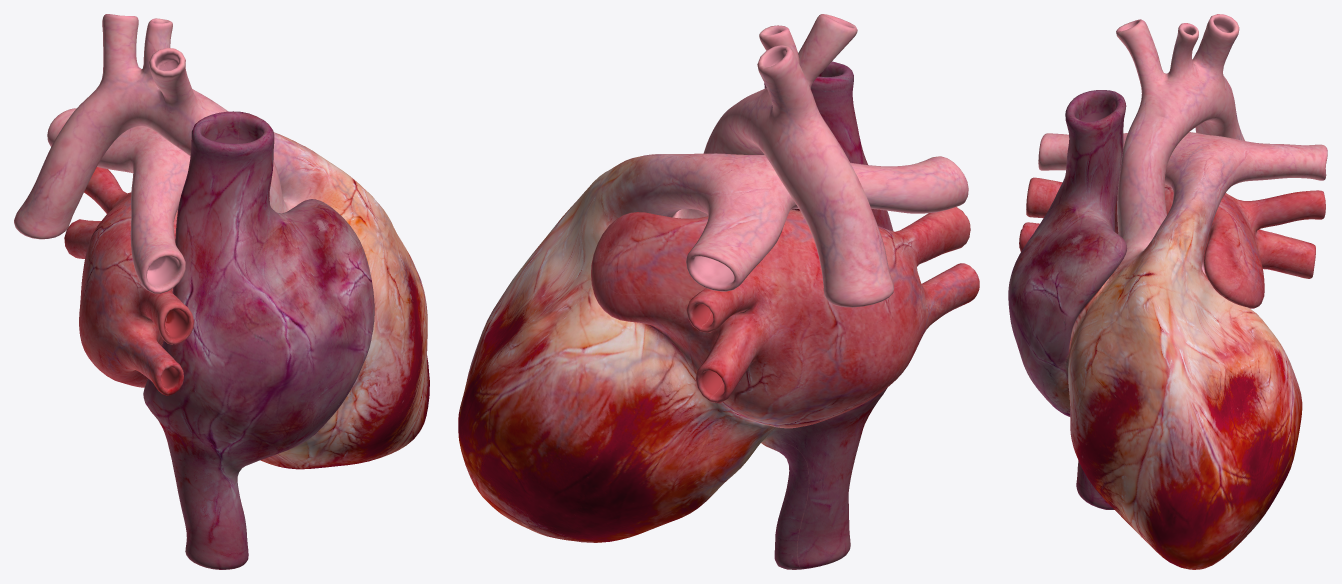
File: Heart.glb
3 renders of one model, left to right at view 1: azimuth 30°, elevation 25°; view 2: azimuth 150°, elevation 25°; view 3: azimuth 270°, elevation 25°, orthographic. The views are drawn at different scales.
Visible parts, largest first — view 1: Heart_Anatomy_Animated; view 2: Heart_Anatomy_Animated; view 3: Heart_Anatomy_Animated.
Part boxes in pixels (x1,y1,x2,y2): Heart_Anatomy_Animated: [14, 14, 429, 569]; Heart_Anatomy_Animated: [458, 14, 979, 569]; Heart_Anatomy_Animated: [1008, 14, 1327, 569].
Bounding box in the file's own units: 6.46 × 8.22 × 5.09.
Materials: 1 (1 with a texture image).
